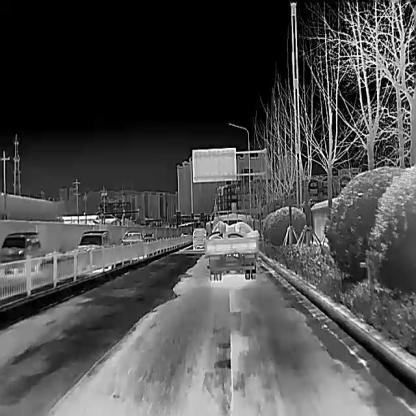car: (204, 211, 259, 281), (0, 231, 39, 277), (76, 230, 111, 263), (120, 231, 144, 254), (192, 228, 205, 249), (144, 233, 155, 245)
